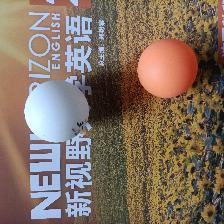WhiteBall: (24, 78, 90, 143)
YellowBall: (136, 38, 198, 98)
